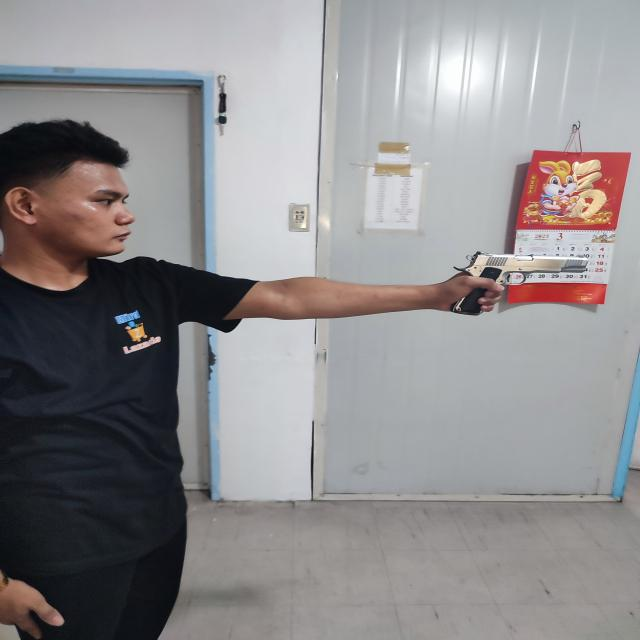pistol: (449, 251, 588, 316)
